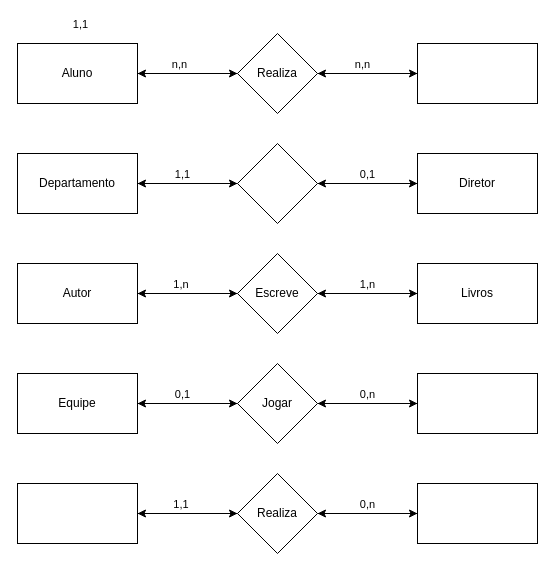
The diagram is 555 pixels wide and 571 high, and some of its shapes have lost their labels. The centre of each missing label's shape, as x and y in pixels:
Clientes: pixel 77 513
Dirige: pixel 277 183
Encomendas: pixel 477 513
Jogador: pixel 477 403
Trabalho: pixel 477 73
